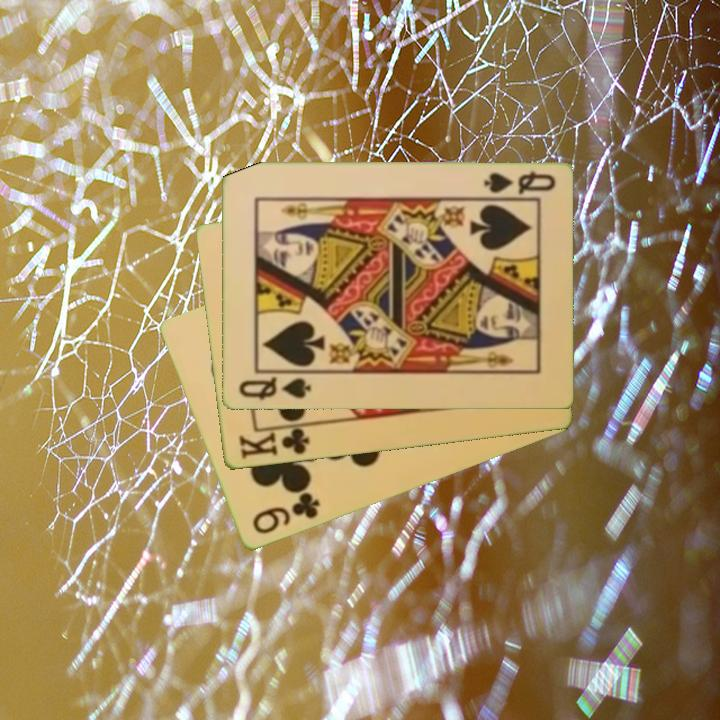9c: (248, 489, 323, 538)
Kc: (234, 422, 314, 462)
Qs: (235, 373, 314, 403), (480, 169, 558, 198)
